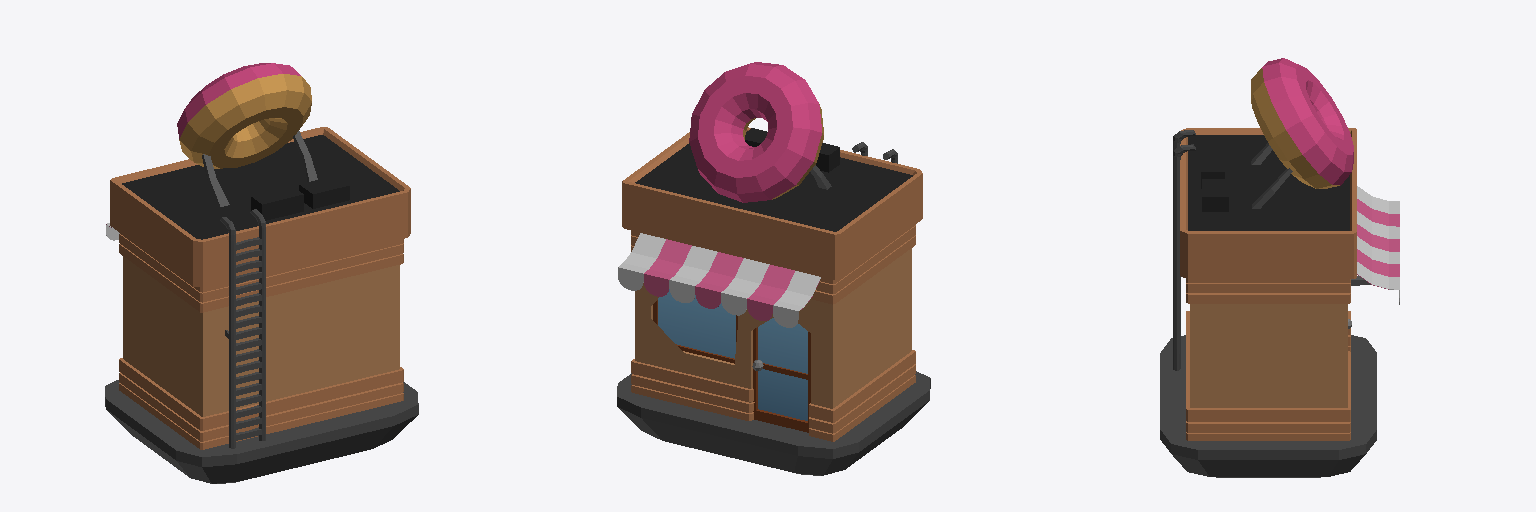
3 views of the same model, side by side, from view 1: azimuth 30°, elevation 25°; view 2: azimuth 150°, elevation 25°; view 3: azimuth 270°, elevation 25° (orthographic).
Visible parts, largest first — view 1: Cube.003_Cube.006, Cube, Cube.007_Cube.011, Torus, Cylinder, Cube.008_Cube.001, Cube.006_Cube.010; view 2: Cube.003_Cube.006, Cube, Torus, Cube.007_Cube.011, Cube.004_Cube.008, Cube.001_Cube.004, Cube.002_Cube.003, Cube.008_Cube.001; view 3: Cube.003_Cube.006, Cube, Cube.007_Cube.011, Torus, Cube.004_Cube.008, Cylinder, Cube.008_Cube.001, Cube.006_Cube.010.
Boxes of the visible parts, x1,y1,x2,y2 form: Cube.003_Cube.006: [110, 127, 410, 449]; Cube: [123, 256, 399, 416]; Cube.007_Cube.011: [105, 380, 418, 483]; Torus: [177, 63, 311, 168]; Cylinder: [220, 209, 265, 448]; Cube.008_Cube.001: [251, 175, 349, 220]; Cube.006_Cube.010: [202, 131, 317, 206]; Cube.003_Cube.006: [622, 127, 922, 441]; Cube: [635, 248, 911, 408]; Torus: [689, 62, 823, 202]; Cube.007_Cube.011: [617, 371, 930, 475]; Cube.004_Cube.008: [618, 233, 820, 327]; Cube.001_Cube.004: [658, 289, 807, 420]; Cube.002_Cube.003: [653, 300, 810, 432]; Cube.008_Cube.001: [745, 128, 839, 172]; Cube.003_Cube.006: [1180, 128, 1356, 440]; Cube: [1190, 304, 1347, 407]; Cube.007_Cube.011: [1160, 335, 1376, 477]; Torus: [1251, 58, 1353, 188]; Cube.004_Cube.008: [1357, 186, 1399, 304]; Cylinder: [1173, 130, 1195, 370]; Cube.008_Cube.001: [1201, 152, 1228, 211]; Cube.006_Cube.010: [1251, 143, 1292, 208].
Size of the model in its own units: 3.18 by 4.8 by 2.74.
Materials: 14 (1 with a texture image).